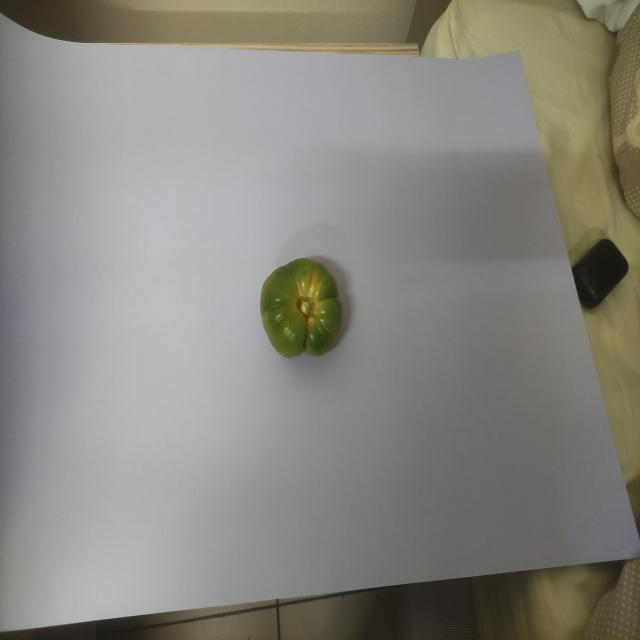yesil: (244, 247, 354, 365)
